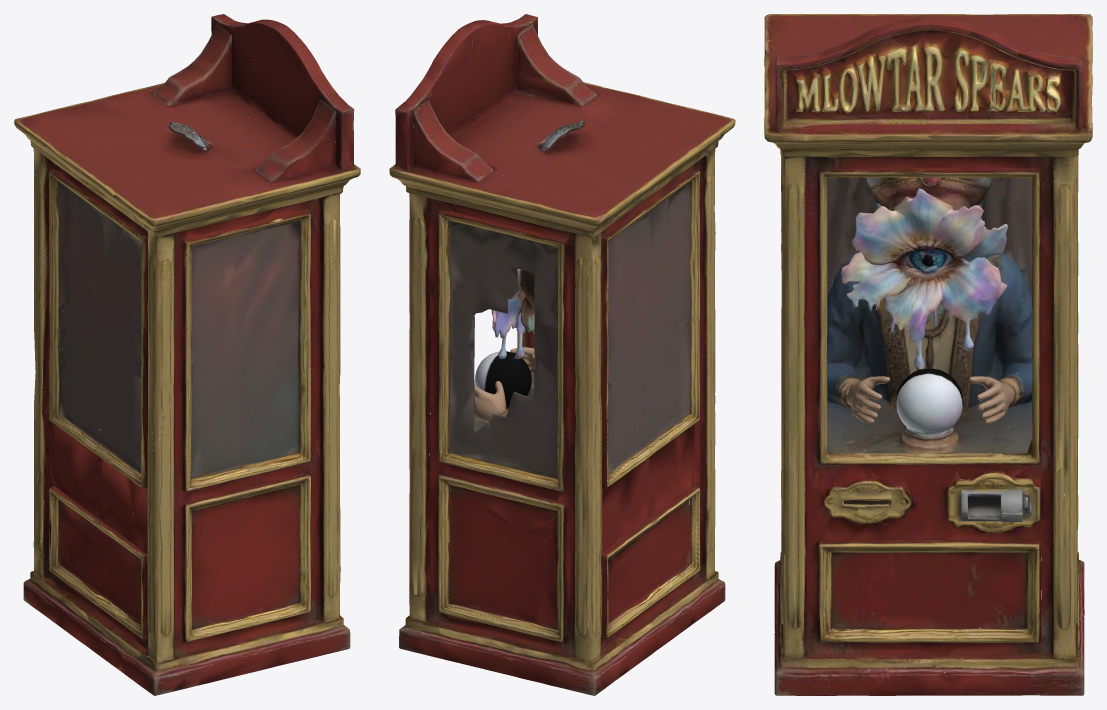
File: mlowtar.glb
The picture shows the model from 3 angles, left to right: view 1: azimuth 30°, elevation 25°; view 2: azimuth 150°, elevation 25°; view 3: azimuth 270°, elevation 25°; orthographic projection. The views are drawn at different scales.
Visible parts, largest first — view 1: tripo_node_bdcf2e75-dace-4475-887a-7b18fddead2a; view 2: tripo_node_bdcf2e75-dace-4475-887a-7b18fddead2a; view 3: tripo_node_bdcf2e75-dace-4475-887a-7b18fddead2a.
Boxes of the visible parts, x1,y1,x2,y2 form: tripo_node_bdcf2e75-dace-4475-887a-7b18fddead2a: (14,14,360,695); tripo_node_bdcf2e75-dace-4475-887a-7b18fddead2a: (389,14,735,695); tripo_node_bdcf2e75-dace-4475-887a-7b18fddead2a: (764,14,1092,695).
Size of the model in its own units: 0.3864 by 1 by 0.4411.
1 material, 1 textured.
